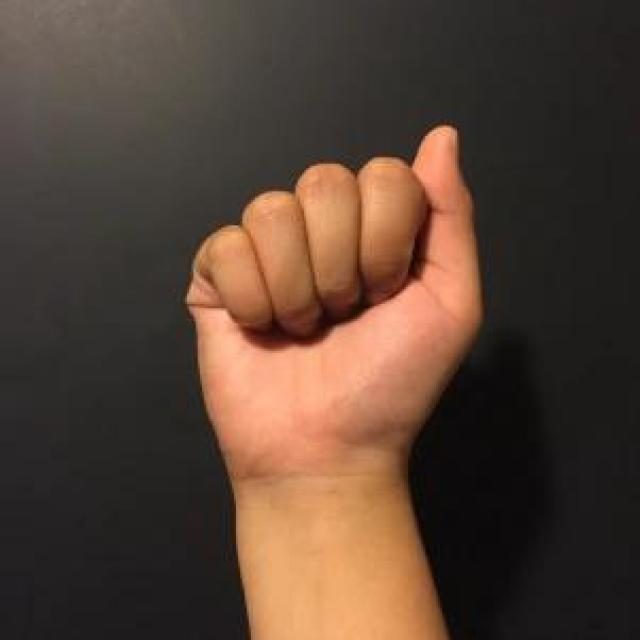A: (180, 121, 490, 485)
